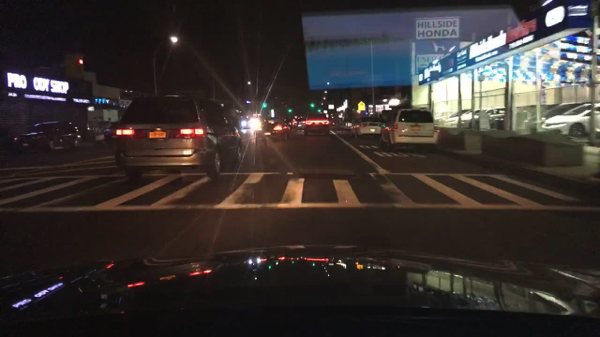car: (112, 93, 244, 182), (380, 107, 440, 154), (10, 120, 83, 154), (541, 103, 600, 140), (522, 101, 581, 133), (498, 104, 553, 131), (255, 118, 291, 143), (447, 108, 488, 129), (468, 106, 506, 128), (349, 119, 387, 139), (94, 122, 118, 147), (303, 114, 330, 135), (440, 109, 469, 128), (237, 116, 263, 131), (282, 119, 292, 132), (294, 118, 304, 128)
traffic light: (261, 99, 267, 109), (287, 107, 292, 114), (310, 101, 314, 108), (318, 108, 321, 115)
traffic sign: (358, 101, 365, 113)
